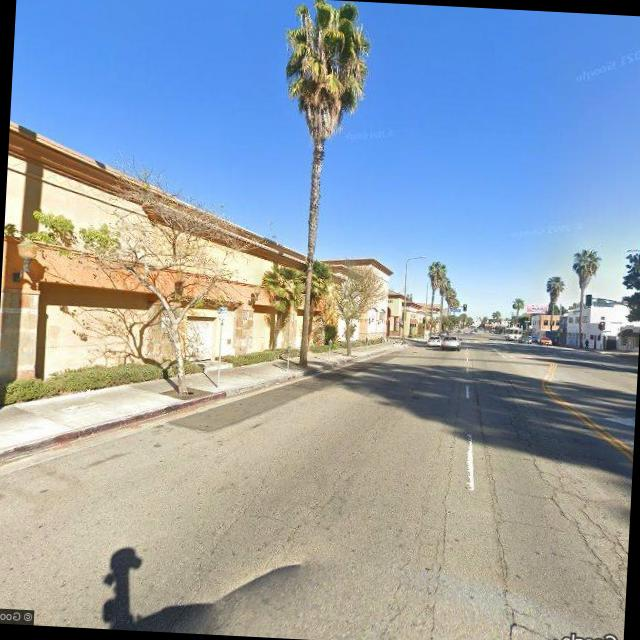crack: (416, 404, 635, 640)
